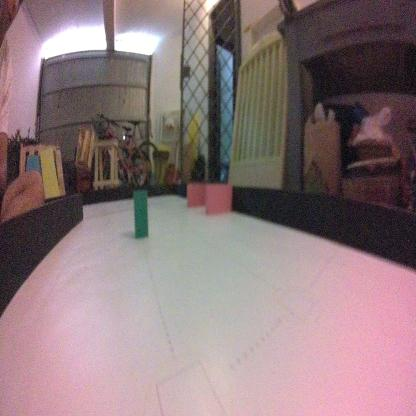green: (132, 184, 150, 243)
magenta: (202, 186, 232, 220), (185, 180, 211, 212)
